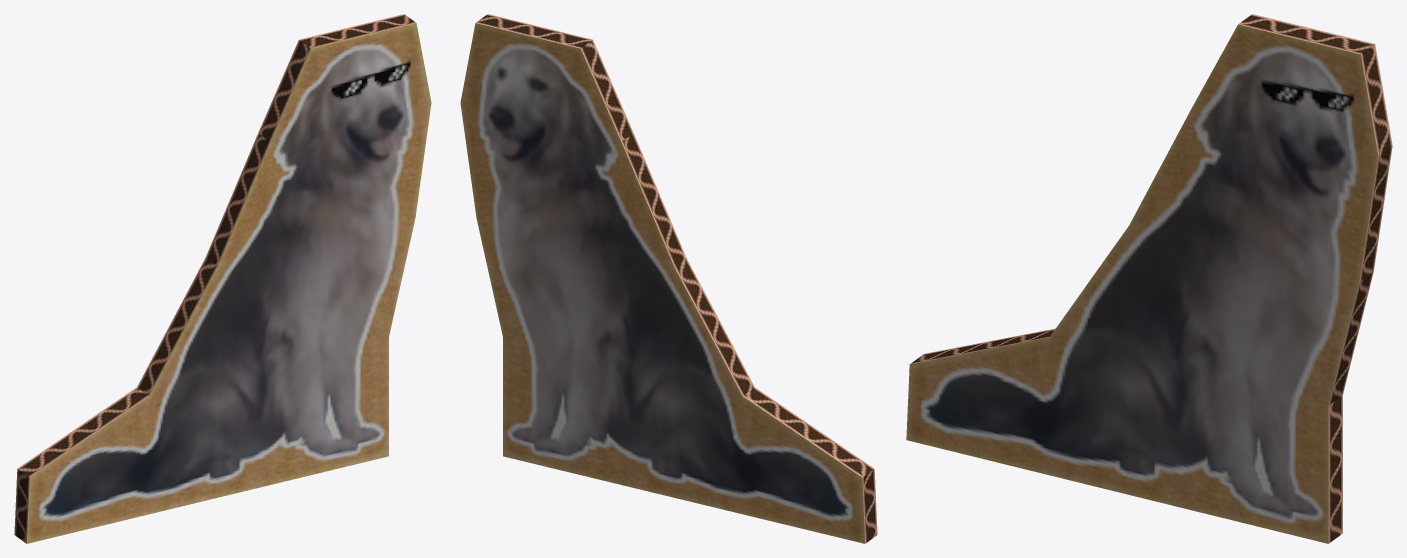
File: dog.obj
3 renders of one model, left to right at view 1: azimuth 30°, elevation 25°; view 2: azimuth 150°, elevation 25°; view 3: azimuth 330°, elevation 25°, orthographic. The views are drawn at different scales.
Parts seen in each view (by area): view 1: dog; view 2: dog; view 3: dog.
Boxes of the visible parts, bbox=[...] form: dog: bbox=[14, 14, 431, 543]; dog: bbox=[460, 14, 877, 543]; dog: bbox=[906, 14, 1392, 543].
Bounding box in the file's own units: 0.9475 × 0.9542 × 0.05.
1 material, 1 textured.
